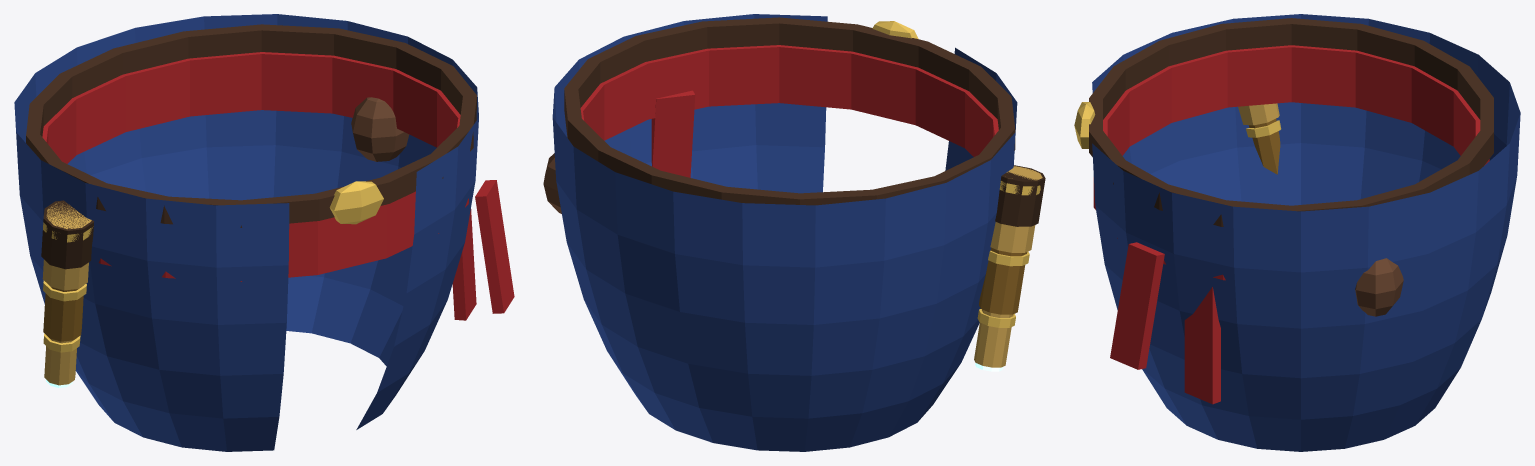
The model's file is mirela_tails.glb.
The picture shows the model from 3 angles, left to right: view 1: azimuth 30°, elevation 25°; view 2: azimuth 150°, elevation 25°; view 3: azimuth 270°, elevation 25°; orthographic projection.
Visible parts, largest first — view 1: mirela_tails; view 2: mirela_tails; view 3: mirela_tails.
Boxes of the visible parts, <box> form: mirela_tails: <box>14,14,514,451</box>; mirela_tails: <box>543,14,1045,451</box>; mirela_tails: <box>1074,14,1520,451</box>.
Size of the model in its own units: 1.05 by 0.6711 by 0.955.
